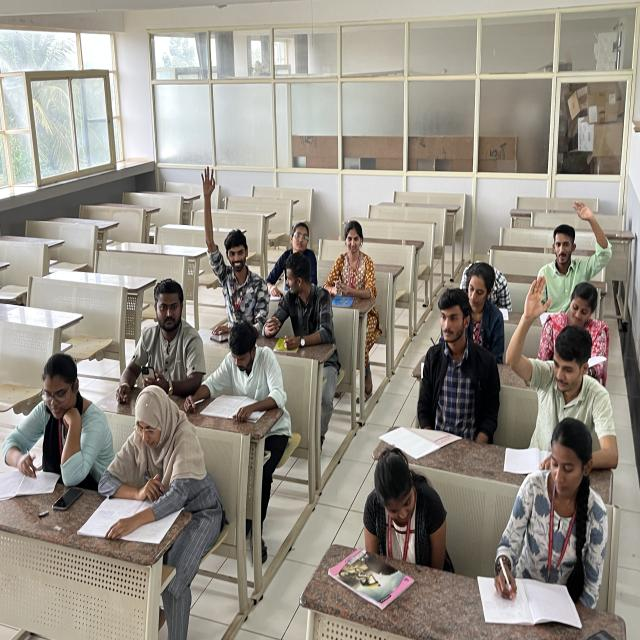Hand Rising: (502, 273, 615, 424), (195, 160, 270, 304), (536, 193, 618, 274)
Reading: (103, 380, 198, 549), (199, 325, 282, 426)
Using Phone: (122, 280, 210, 388)
Writing: (495, 425, 612, 628), (0, 339, 101, 508)
